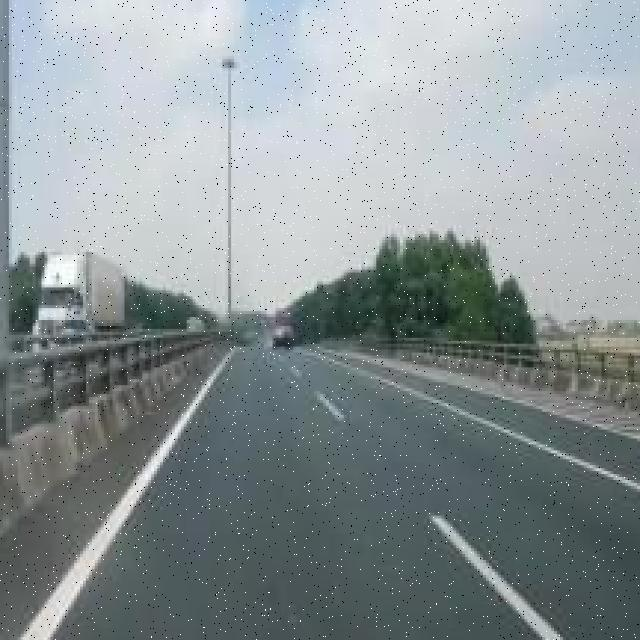clear-road: (0, 342, 640, 640)
